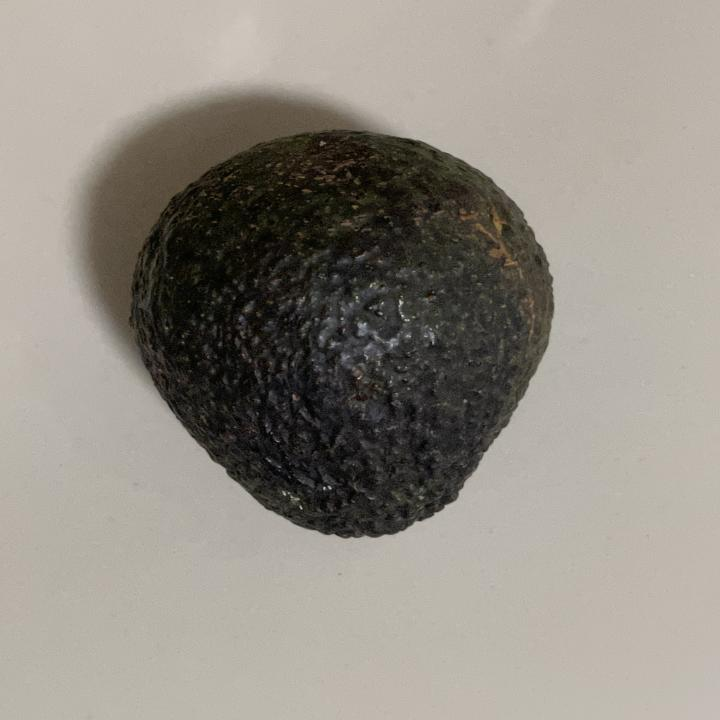Level1: (107, 103, 574, 554)
